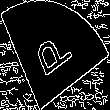P_SW: (31, 26, 79, 84)
